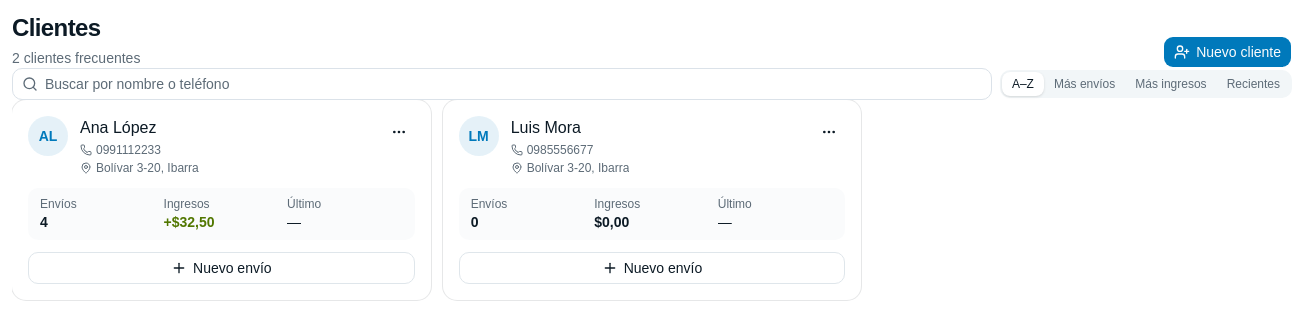
Test: ClientesPage › lista los clientes con sus ingresos en verde y busca por nombre o teléfono
Expected: the text "Ana López" is shown, [80,116,156,140]
Type "5556" into the field named "Buscar clientes" at [502, 84], box [12,68,992,100]
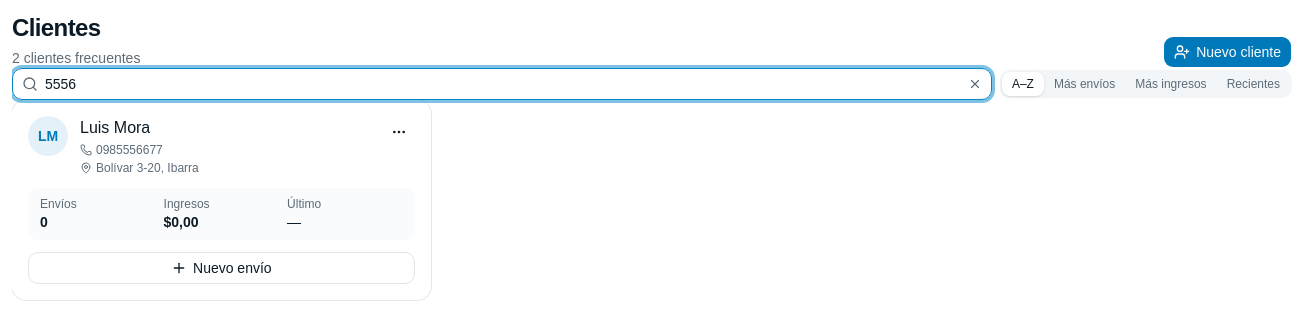
Expected: the text "Luis Mora" is shown, [80,116,150,140]
Expected: the text "Ana López" is gone
